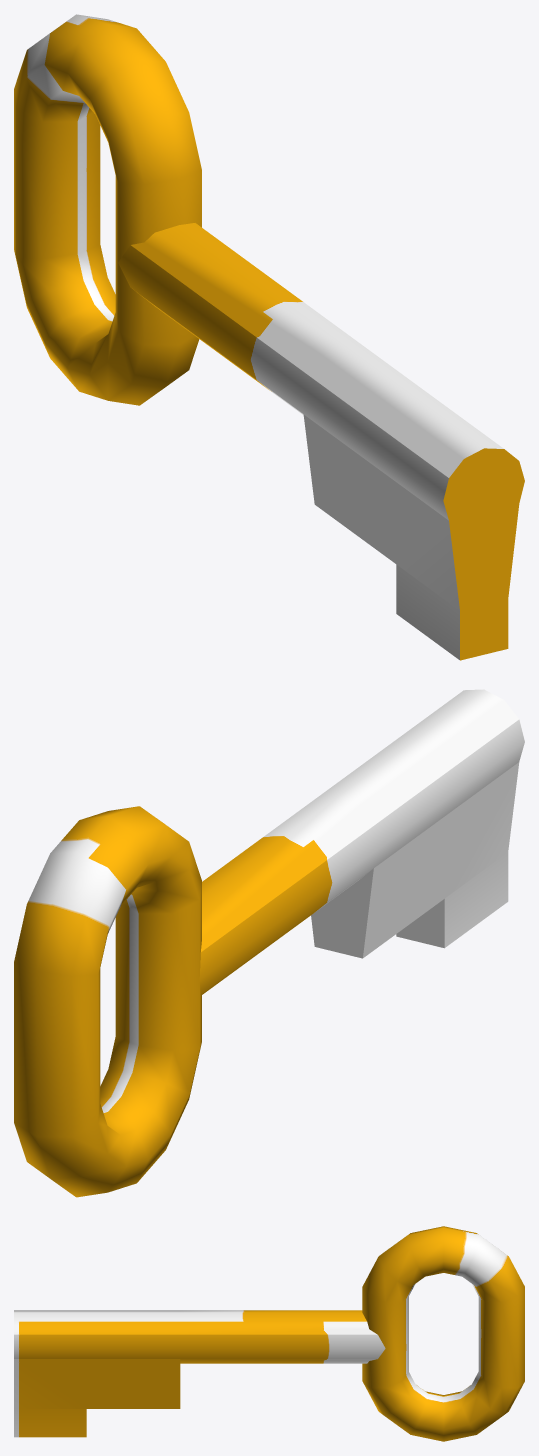
Rendered from Key.fbx.
The picture shows the model from 3 angles, top to bottom: view 1: azimuth 30°, elevation 25°; view 2: azimuth 150°, elevation 25°; view 3: azimuth 270°, elevation 25°; orthographic projection. The views are drawn at different scales.
Parts seen in each view (by area): view 1: Key; view 2: Key; view 3: Key.
Part boxes in pixels (bbox=[...]): Key: bbox=[14, 14, 524, 660]; Key: bbox=[14, 689, 524, 1197]; Key: bbox=[14, 1226, 524, 1441].
Size of the model in its own units: 0.0904 by 0.3929 by 0.8582.
